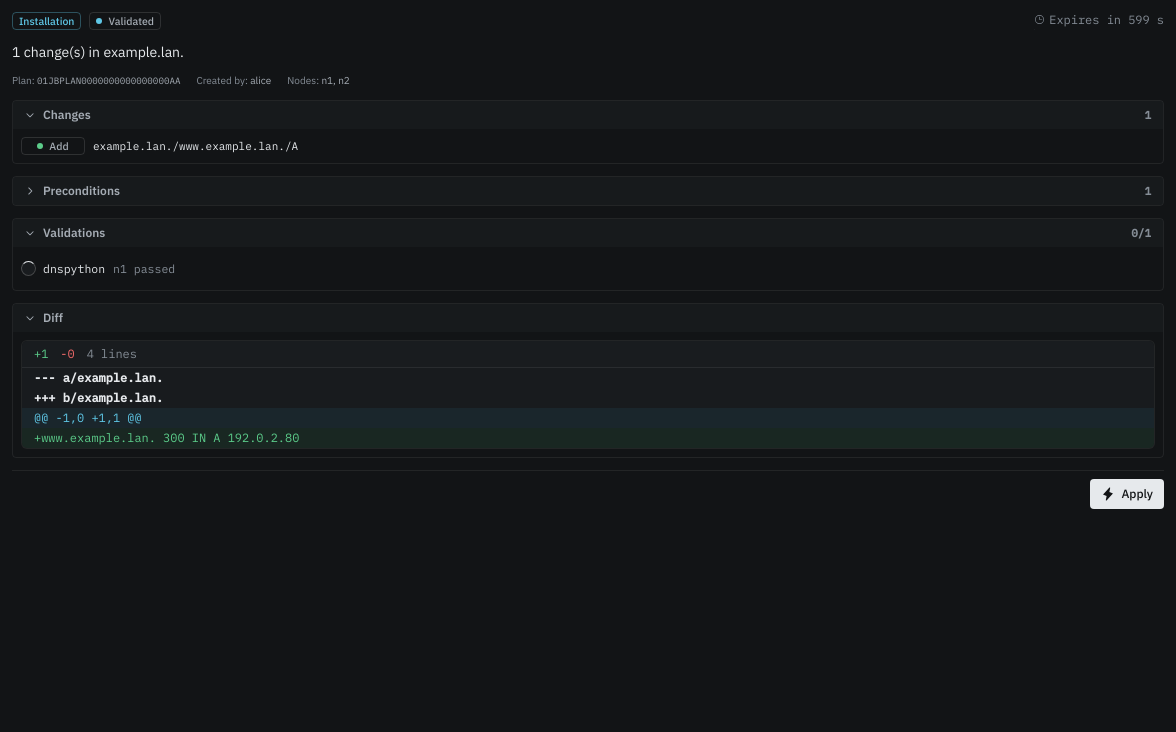
Test: PlanPreview › follows a job for install scopes until done
Click the button with test id "plan-apply".
click(1127, 494)  # box x1=1090 y1=479 x2=1164 y2=509
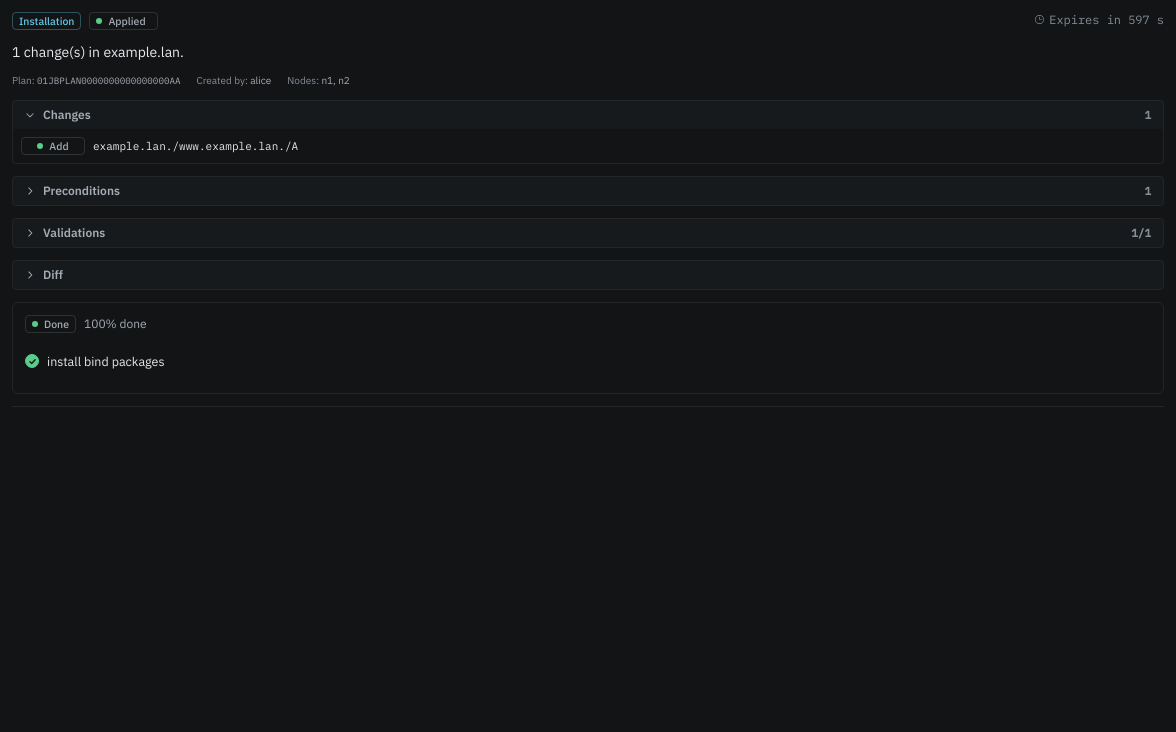
expect the element with test id "plan-job" shows "install bind packages": met, box x1=47 y1=353 x2=164 y2=369
